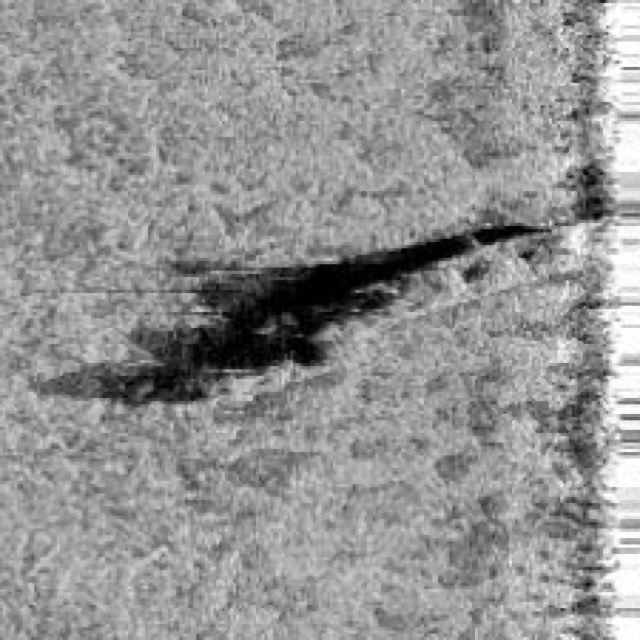Ship: (164, 176, 604, 426)
